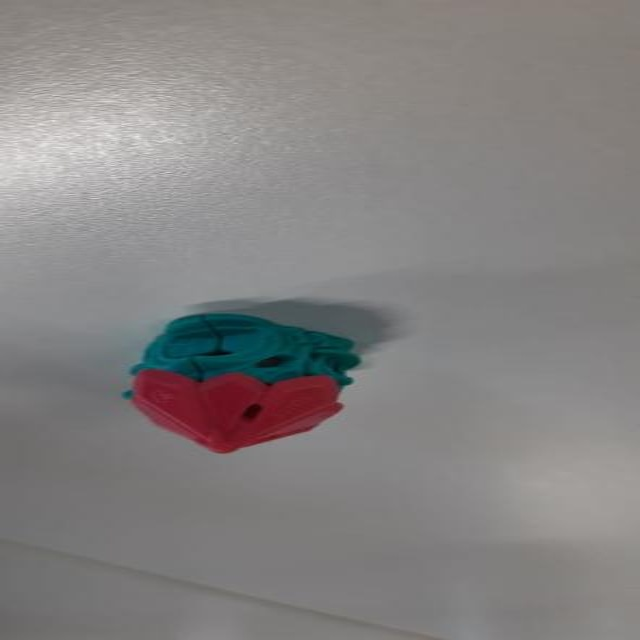House: (120, 312, 387, 463)
